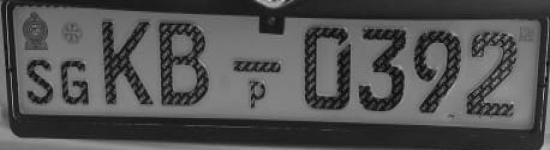-: (229, 54, 286, 77)
0: (300, 21, 356, 114)
3: (357, 24, 410, 117)
9: (463, 27, 521, 121), (412, 25, 464, 120)
G: (56, 51, 95, 109)
K: (100, 14, 156, 112), (155, 16, 211, 112)
S: (24, 51, 56, 112)
